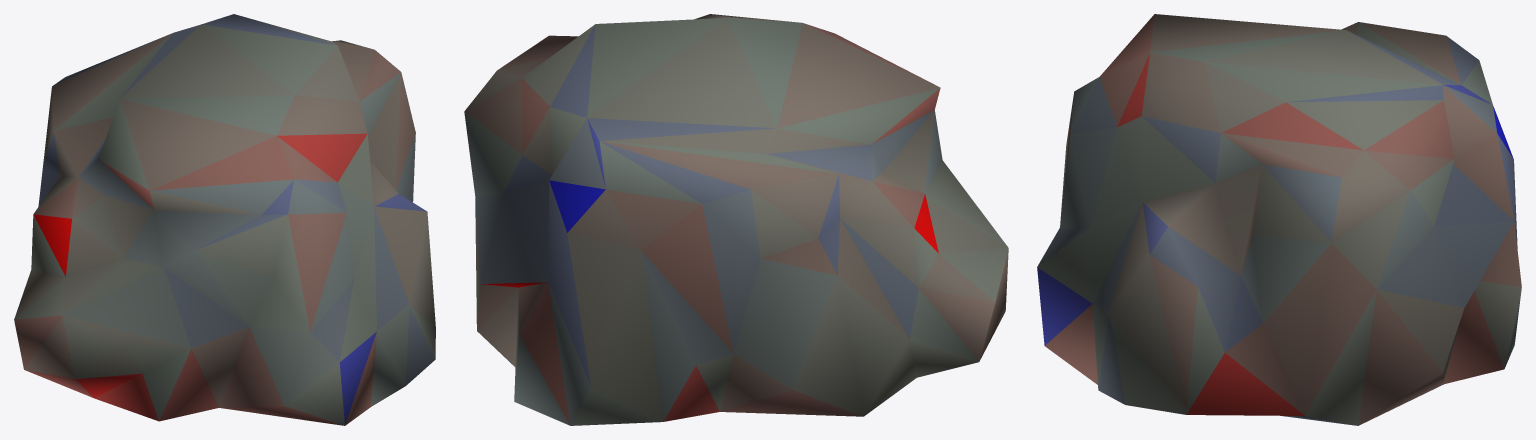
File: snow_cliff_01_COL.fbx
3 renders of one model, left to right at view 1: azimuth 30°, elevation 25°; view 2: azimuth 150°, elevation 25°; view 3: azimuth 270°, elevation 25°, orthographic. The views are drawn at different scales.
Visible parts, largest first — view 1: snow_cliff_01_COL; view 2: snow_cliff_01_COL; view 3: snow_cliff_01_COL.
Boxes of the visible parts, bbox=[...] form: snow_cliff_01_COL: bbox=[14, 14, 435, 425]; snow_cliff_01_COL: bbox=[464, 14, 1008, 425]; snow_cliff_01_COL: bbox=[1037, 14, 1521, 425].
Size of the model in its own units: 1729 by 1142 by 1584.
